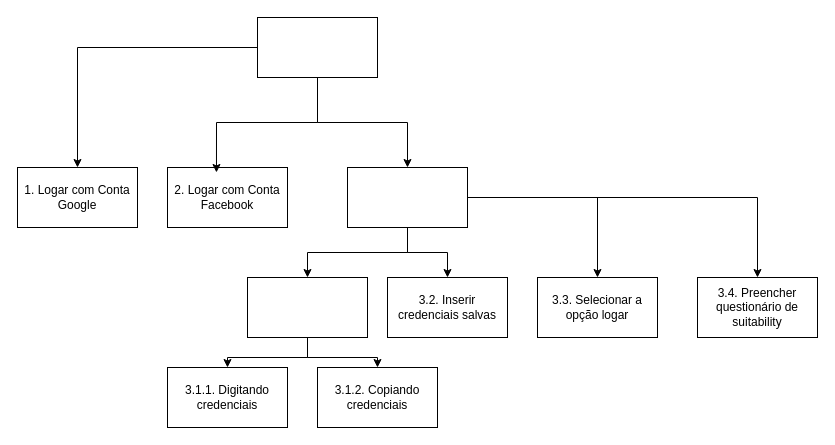
The diagram is 835 pixels wide and 445 high, and some of its shapes have lost their labels. Here are the shapes that lost their labels. From the top down, the box of each, then its label:
(256, 16, 378, 78): 0. Logar no aplicativo 1/2/3
(346, 166, 468, 228): 3. Logar com credenciais do aplicativo (1/2) > 3 > 4
(246, 276, 368, 338): 3.1. Inserir credenciais manualmente
